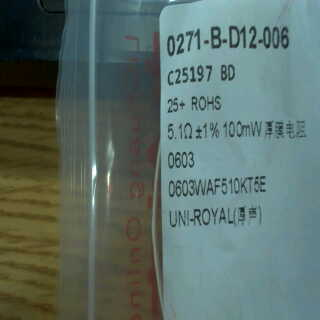5.1R: (161, 117, 200, 141)
